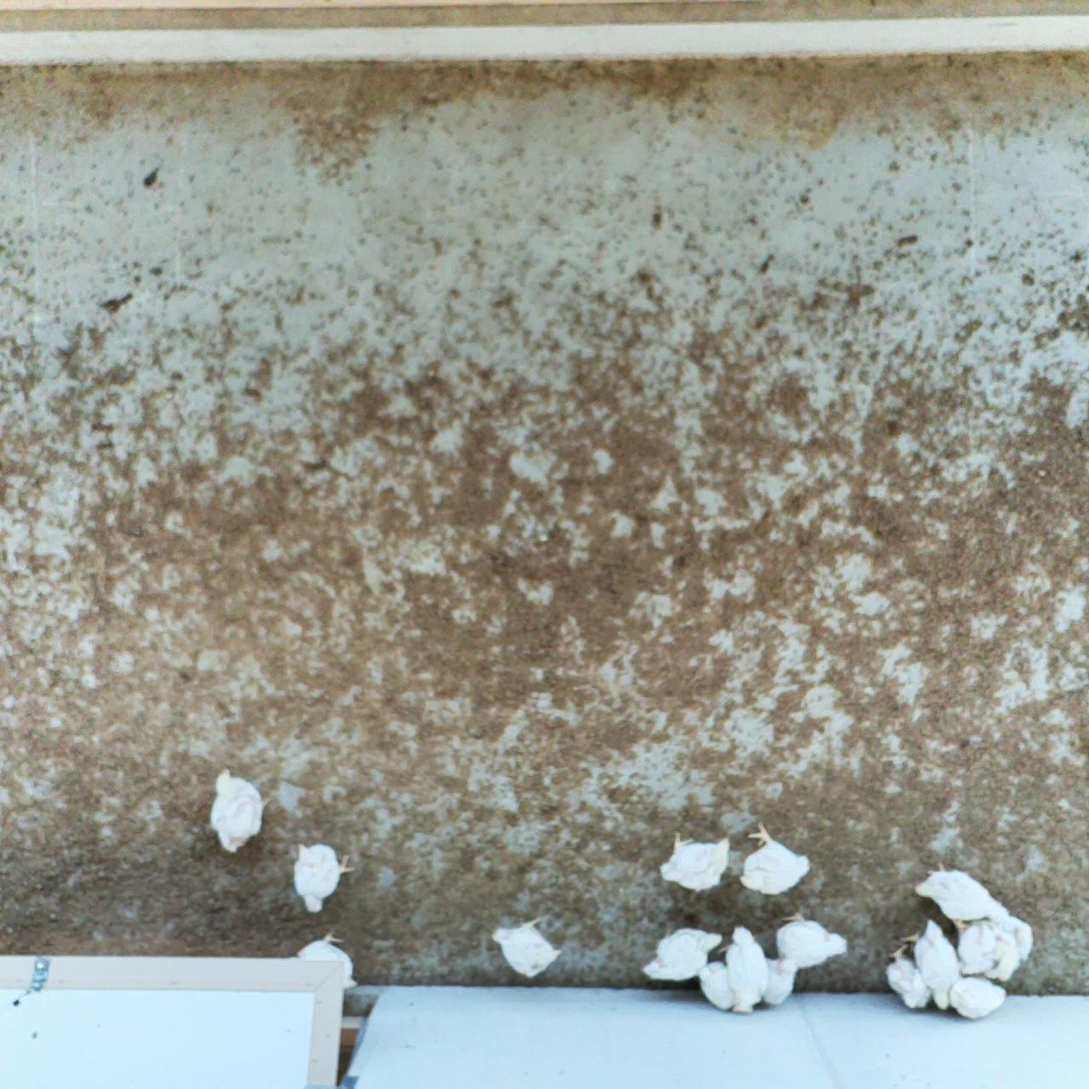chicken: (915, 865, 1016, 945), (948, 916, 1036, 988), (202, 768, 273, 855), (284, 837, 356, 916), (488, 915, 569, 983), (907, 921, 964, 1015), (737, 825, 809, 895), (718, 922, 772, 1015), (642, 924, 724, 983), (657, 834, 733, 896), (772, 913, 853, 971), (292, 932, 360, 993), (884, 944, 932, 1014), (693, 955, 738, 1015), (946, 976, 1009, 1017), (762, 955, 802, 1009)
